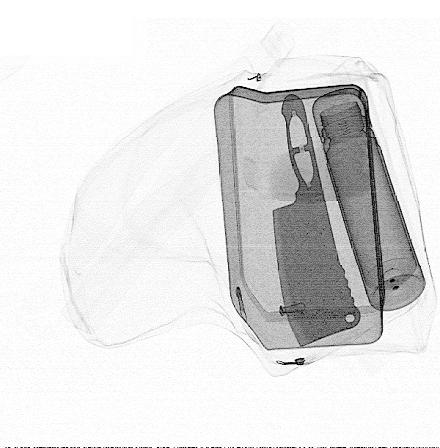Knife: (271, 91, 362, 348)
